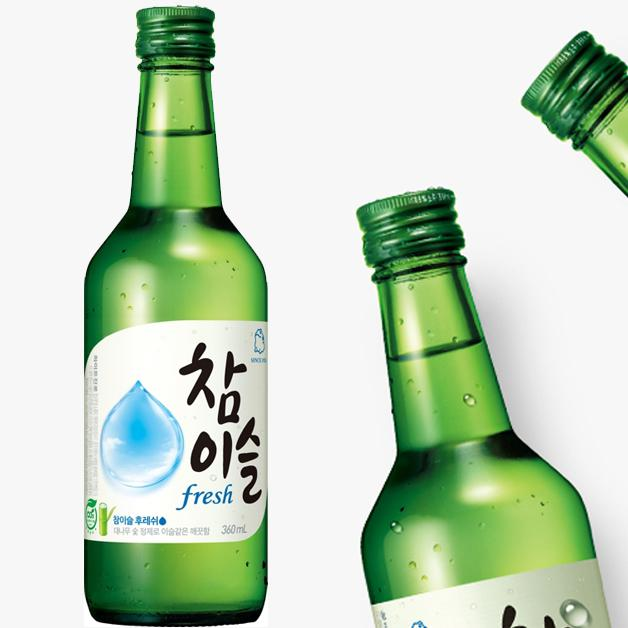soju: (341, 173, 623, 628), (72, 3, 273, 628)
